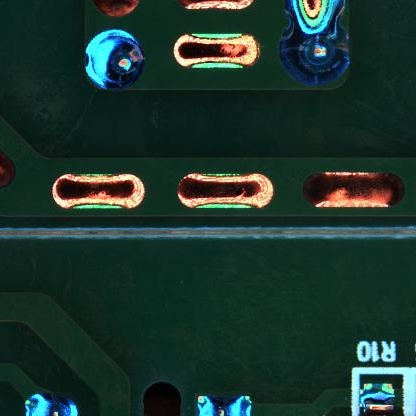spot: (274, 22, 350, 86), (84, 29, 147, 91), (20, 393, 78, 416), (197, 395, 253, 416)
